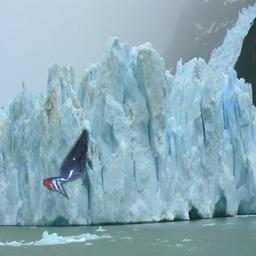Woodpecker: (43, 127, 90, 200)
